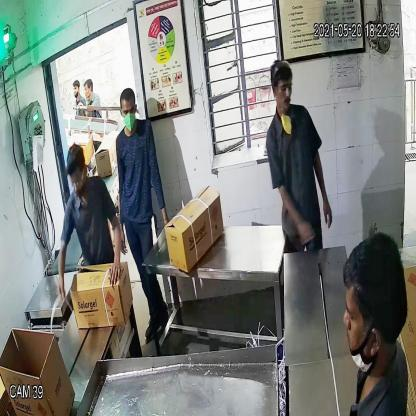no_goggles: (271, 79, 294, 98), (117, 102, 137, 118)
